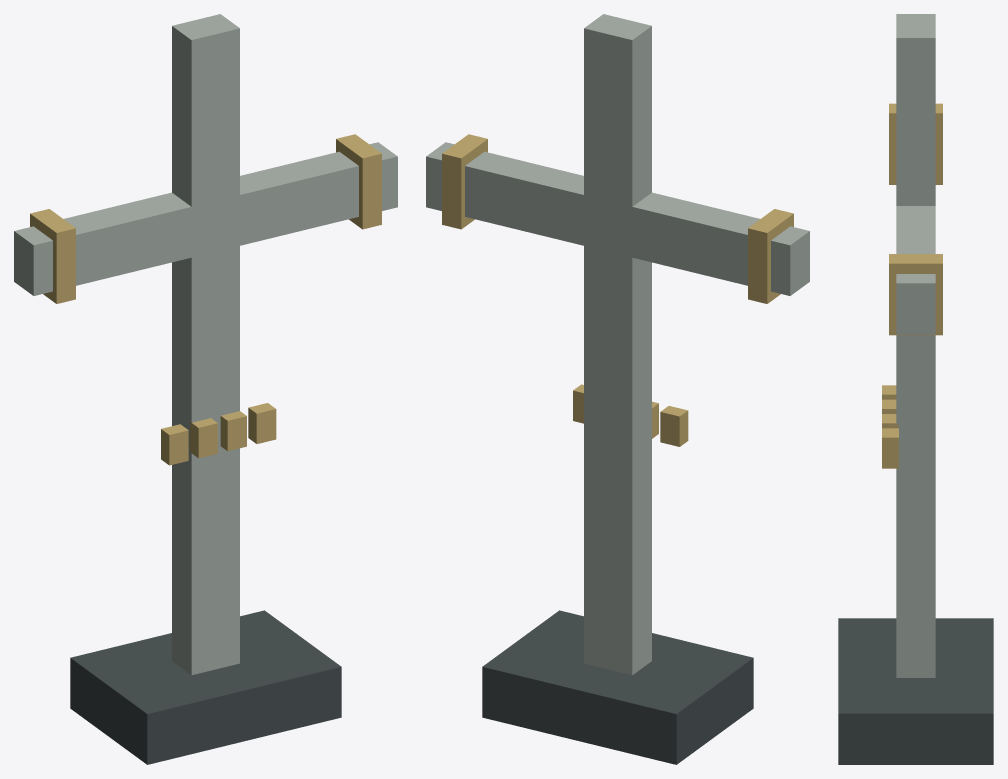
The model's file is blender_crucifix_3.glb.
The picture shows the model from 3 angles, left to right: view 1: azimuth 30°, elevation 25°; view 2: azimuth 150°, elevation 25°; view 3: azimuth 270°, elevation 25°; orthographic projection.
Parts seen in each view (by area): view 1: blender_crucifix_3; view 2: blender_crucifix_3; view 3: blender_crucifix_3.
Boxes of the visible parts, x1,y1,x2,y2 form: blender_crucifix_3: (14,14,397,764); blender_crucifix_3: (426,14,809,764); blender_crucifix_3: (838,14,993,764).
Bounding box in the file's own units: 0.15 × 0.27 × 0.055.
Materials: 1 (1 with a texture image).
